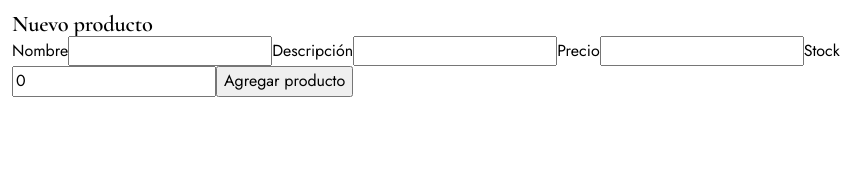
Test: ProductoForm (React Testing Library) › muestra un error y no envía si falta el nombre
Click the button "Agregar producto". click: (285, 82)
box: [216,66,353,97]
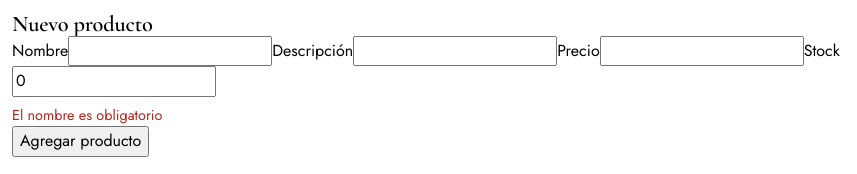
Result: the message reads "El nombre es obligatorio" at [12,104,162,124]
